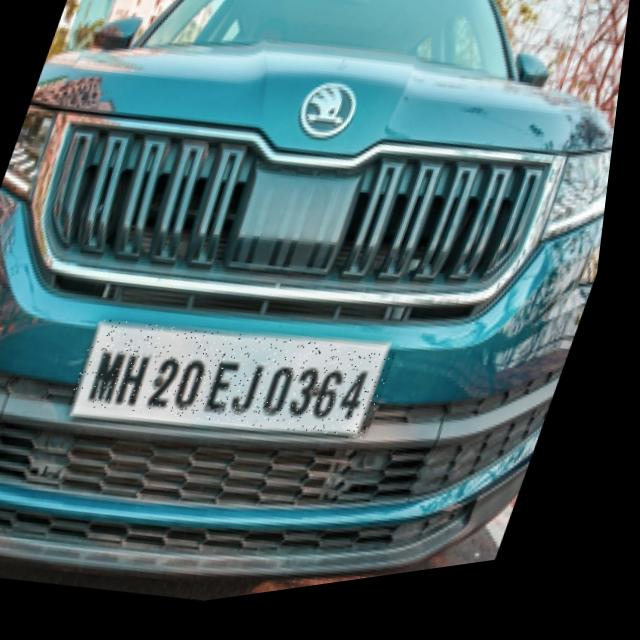license_plate: (71, 288, 414, 484)
